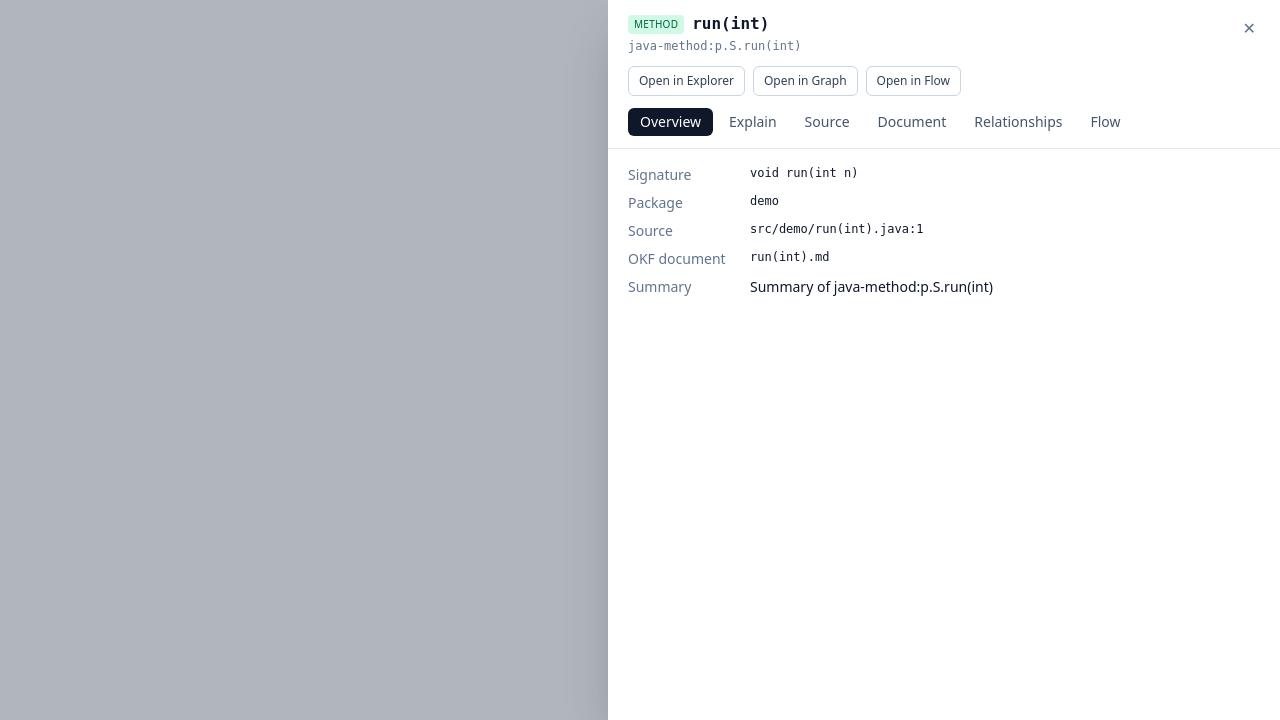
Explain Method › shows API errors with the request id and retries
This screenshot has width=1280, height=720.
Click the tab "explain" at (753, 122), box [717,108,789,136]
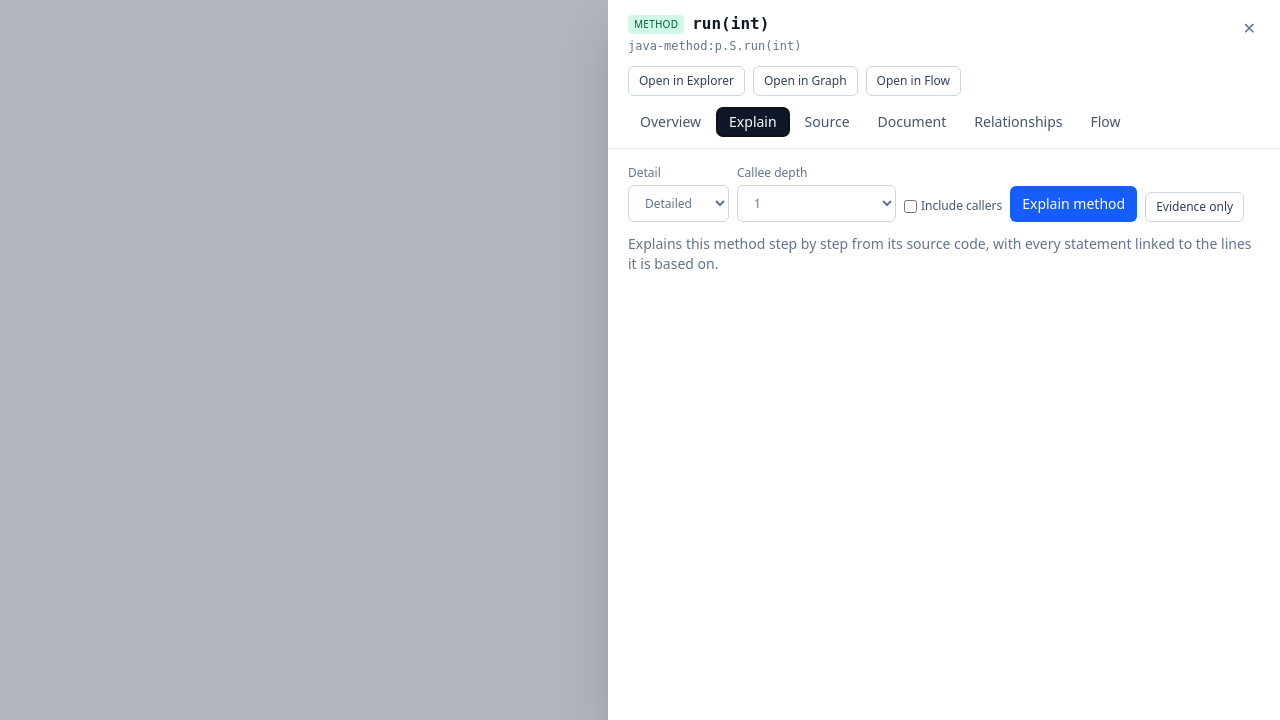
Click the button "Explain method" at (1074, 204), box [1010,186,1137,222]
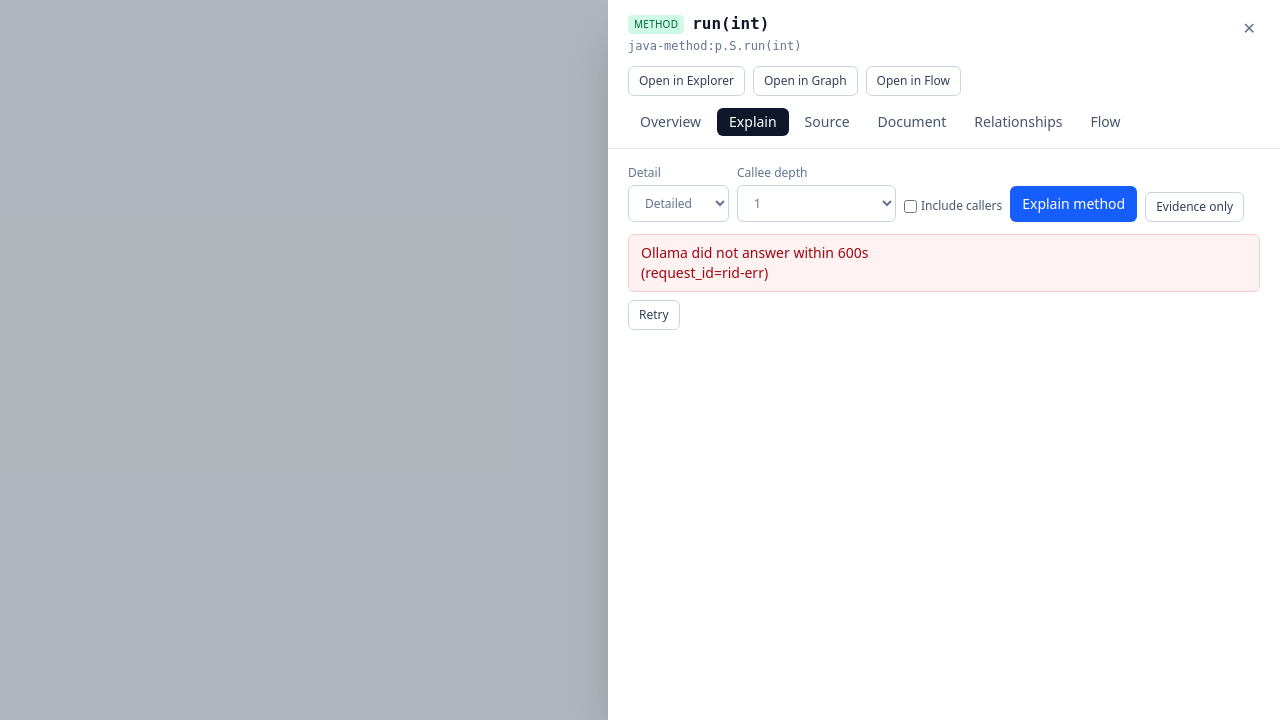
Check: the message shows "Ollama did not answer within 600s", box [641,243,868,282]
Check: the message shows "request_id=rid-err", box [641,243,868,282]
Click the button "Retry" at (654, 315), box [628,300,680,330]
(page scrolled)
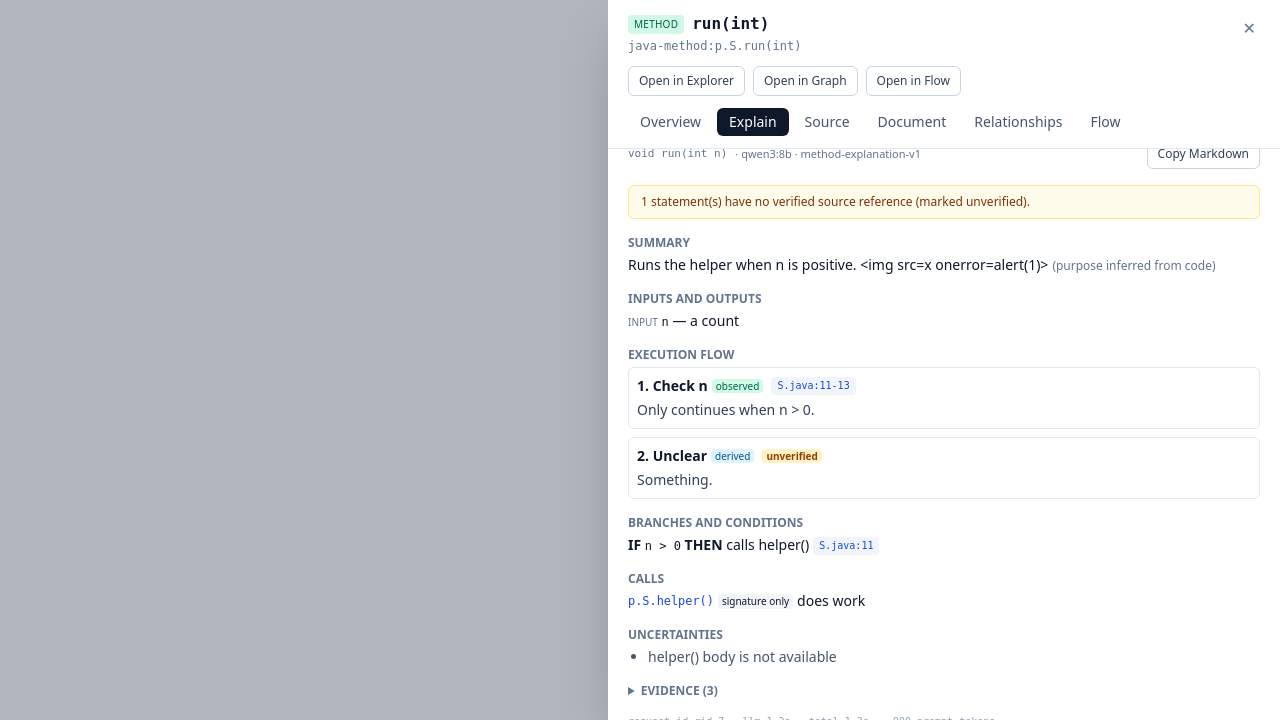
Check: the element with test id "method-explanation" is shown, box [628,149,1260,719]
